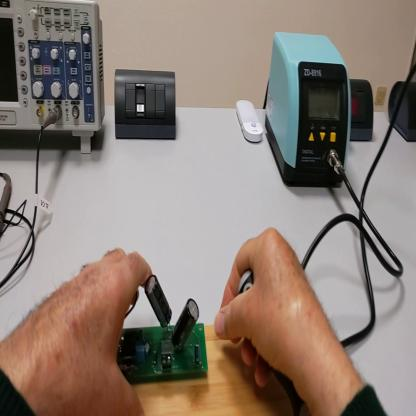hand: (2, 247, 156, 416), (217, 228, 326, 388)
high voltage board: (115, 274, 208, 385)
oscilloscope: (1, 1, 107, 154)
oscilloscope probe tip: (2, 177, 11, 237)
screwdriver-: (236, 271, 310, 414)
socket: (389, 78, 416, 144), (350, 81, 375, 149)
welder station: (264, 28, 350, 189)
working area: (131, 323, 295, 416)
